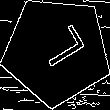L_SW: (28, 25, 86, 77)
